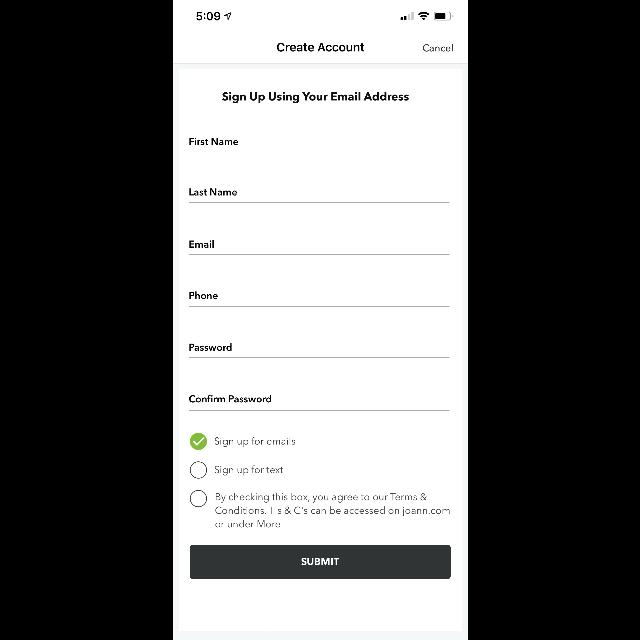checkbox: (188, 489, 206, 506), (188, 462, 206, 478), (189, 432, 205, 450)
input: (188, 395, 450, 411), (188, 240, 450, 256), (188, 344, 450, 358), (188, 292, 450, 306), (188, 189, 450, 203), (188, 138, 450, 152)
text: (215, 492, 450, 528), (222, 92, 408, 104), (276, 42, 364, 52), (213, 437, 294, 447), (214, 465, 282, 475), (189, 395, 271, 403), (188, 138, 238, 146), (190, 188, 237, 196), (189, 343, 231, 351), (189, 291, 217, 299), (423, 44, 453, 51), (189, 240, 213, 248)
textbutton: (190, 545, 450, 579)
uppertaskbar: (196, 12, 452, 20)
